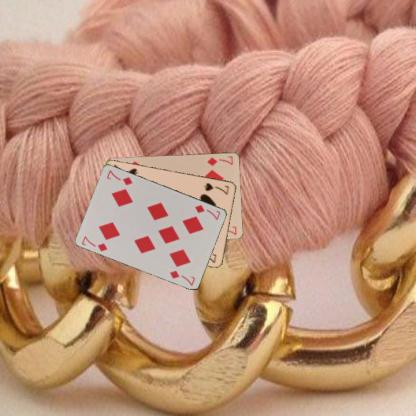7d: (192, 202, 222, 221), (79, 234, 109, 252), (205, 153, 234, 167)
7s: (202, 180, 231, 196)
